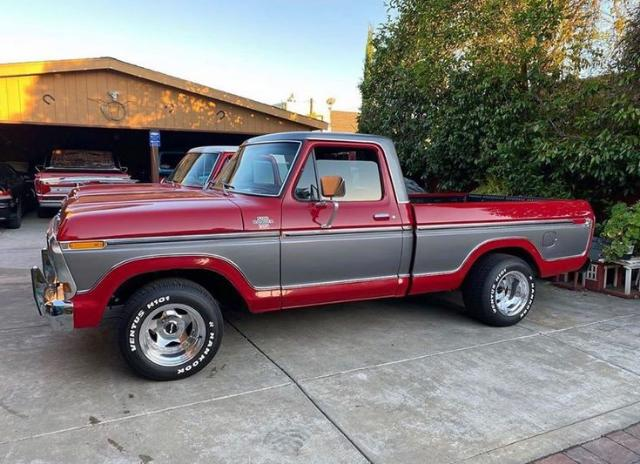pickup-truck: (30, 131, 595, 382)
